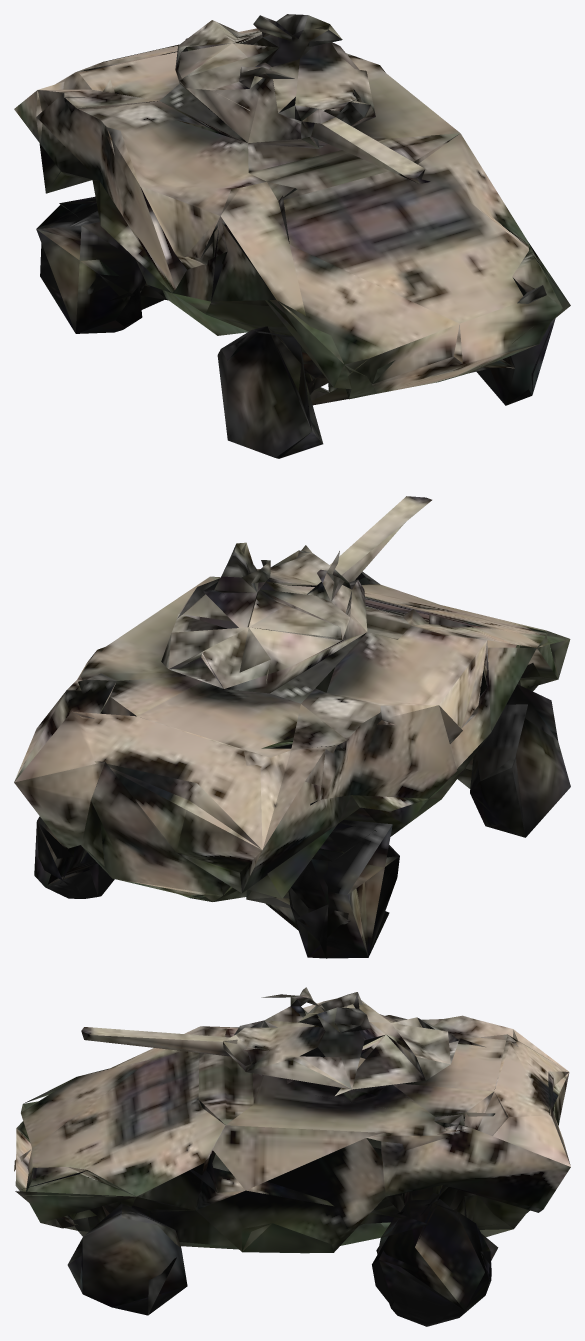
File: apc_963603111_lod0.glb
3 views of the same model, one above another, from view 1: azimuth 30°, elevation 25°; view 2: azimuth 150°, elevation 25°; view 3: azimuth 270°, elevation 25° (orthographic). The views are drawn at different scales.
Bounding box in the file's own units: 4.1 × 4.05 × 7.47.
Materials: 1 (1 with a texture image).
